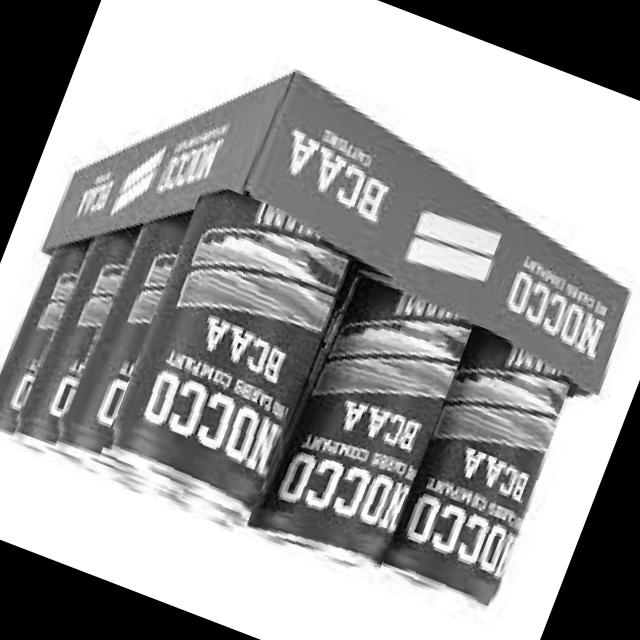Cans: (94, 179, 356, 525), (243, 250, 481, 575), (366, 319, 584, 623)
